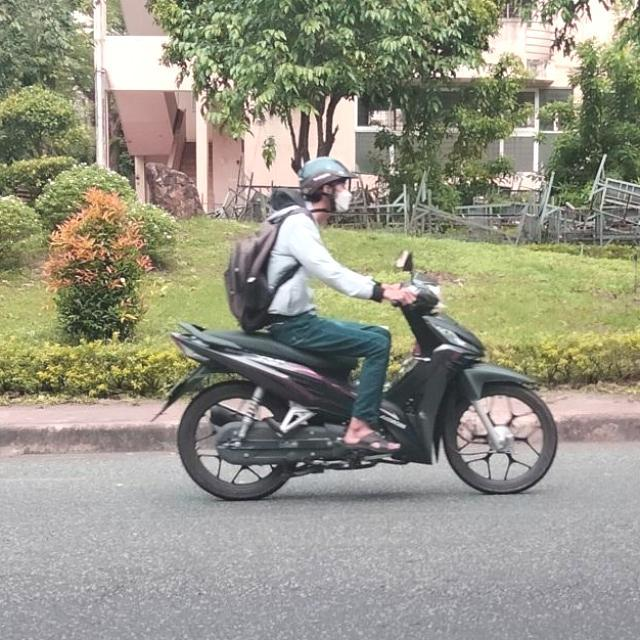Helmet: (299, 157, 359, 223)
